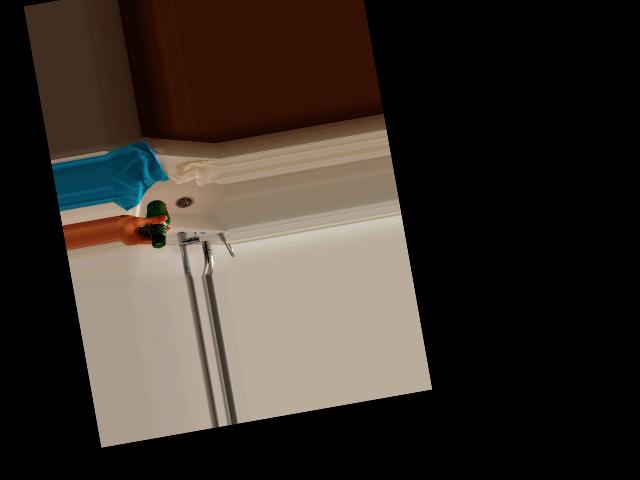beer: (141, 197, 174, 249)
